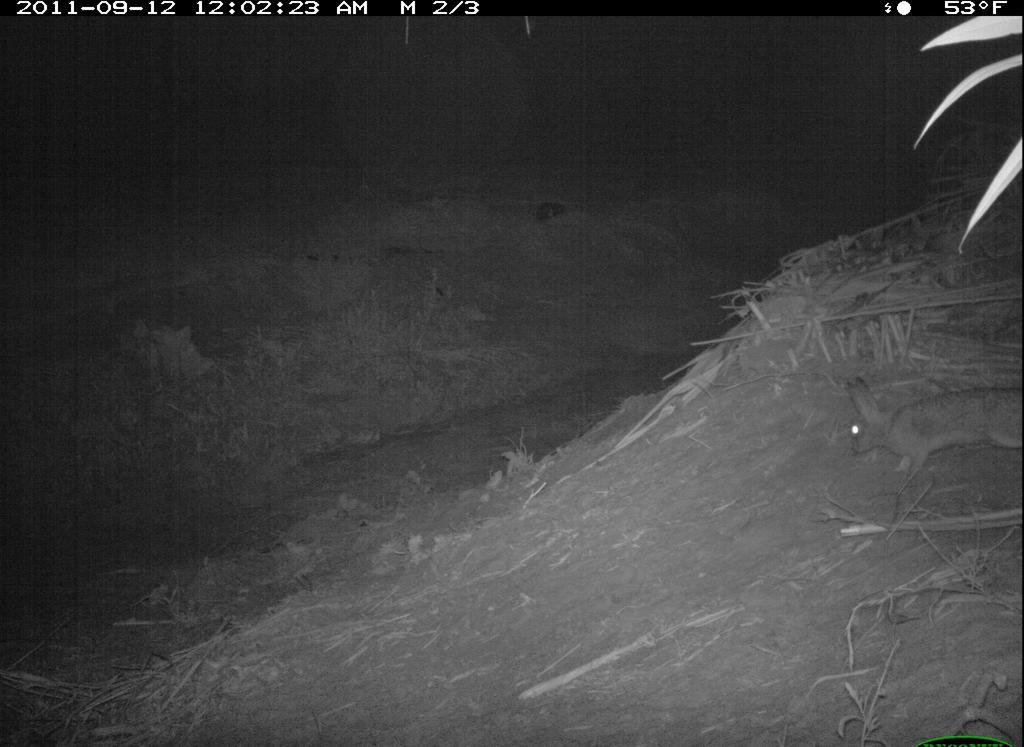rabbit: (836, 365, 1023, 481)
